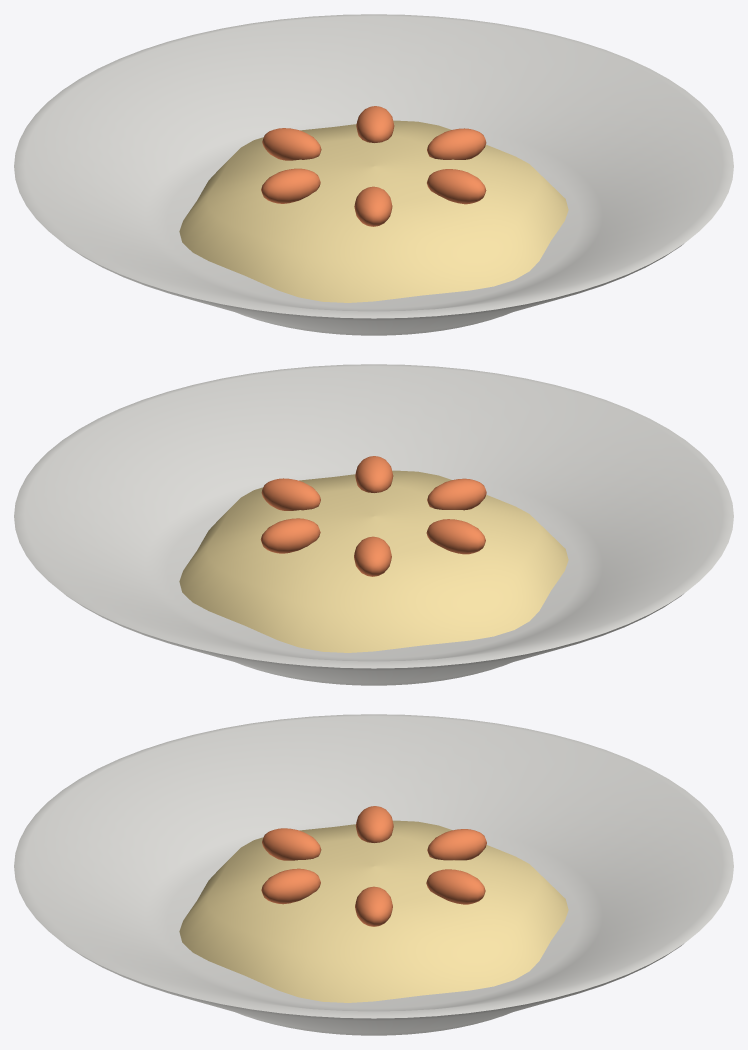
Rendered from risoto.glb.
The picture shows the model from 3 angles, top to bottom: view 1: azimuth 30°, elevation 25°; view 2: azimuth 150°, elevation 25°; view 3: azimuth 270°, elevation 25°; orthographic projection.
Parts seen in each view (by area): view 1: risoto; view 2: risoto; view 3: risoto.
Boxes of the visible parts, bbox=[...] form: risoto: bbox=[14, 14, 733, 335]; risoto: bbox=[14, 364, 733, 685]; risoto: bbox=[14, 714, 733, 1035].
Size of the model in its own units: 0.264 by 0.04 by 0.264.
